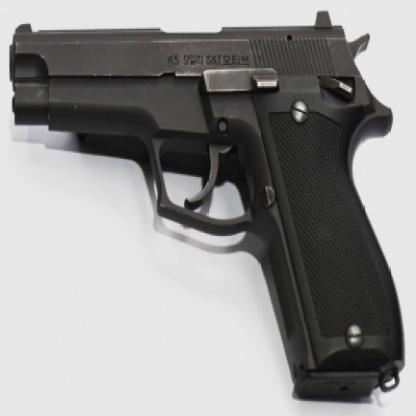Guns: (5, 6, 407, 404)
